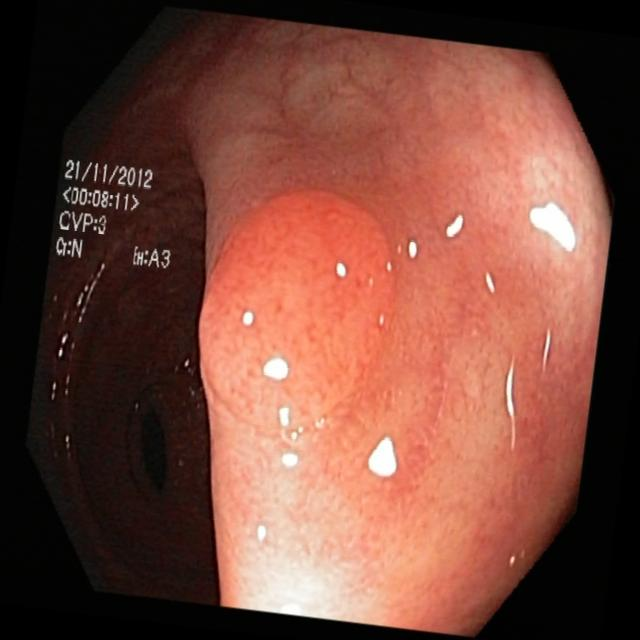Polyps: (190, 179, 403, 453)
